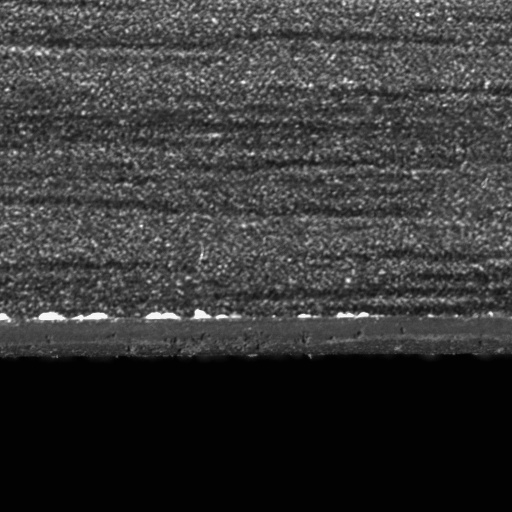huashang: (193, 309, 241, 320), (146, 310, 182, 323), (33, 311, 68, 322), (70, 312, 108, 321)
